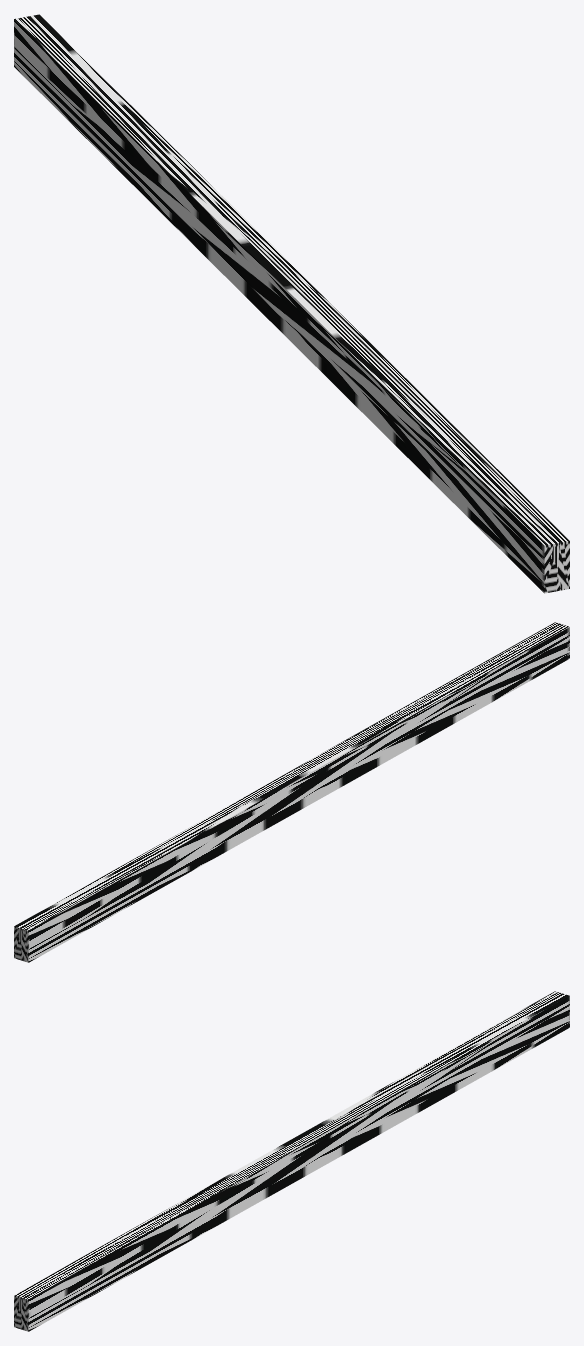
The picture shows the model from 3 angles, top to bottom: view 1: azimuth 30°, elevation 25°; view 2: azimuth 150°, elevation 25°; view 3: azimuth 330°, elevation 25°; orthographic projection. The views are drawn at different scales.
Parts seen in each view (by area): view 1: Cube.004; view 2: Cube.004; view 3: Cube.004.
Boxes of the visible parts, <box> form: Cube.004: <box>14,14,569,593</box>; Cube.004: <box>14,622,569,962</box>; Cube.004: <box>14,991,569,1331</box>.
Size of the model in its own units: 2.05 by 0.5648 by 14.43.
Materials: 1 (1 with a texture image).
